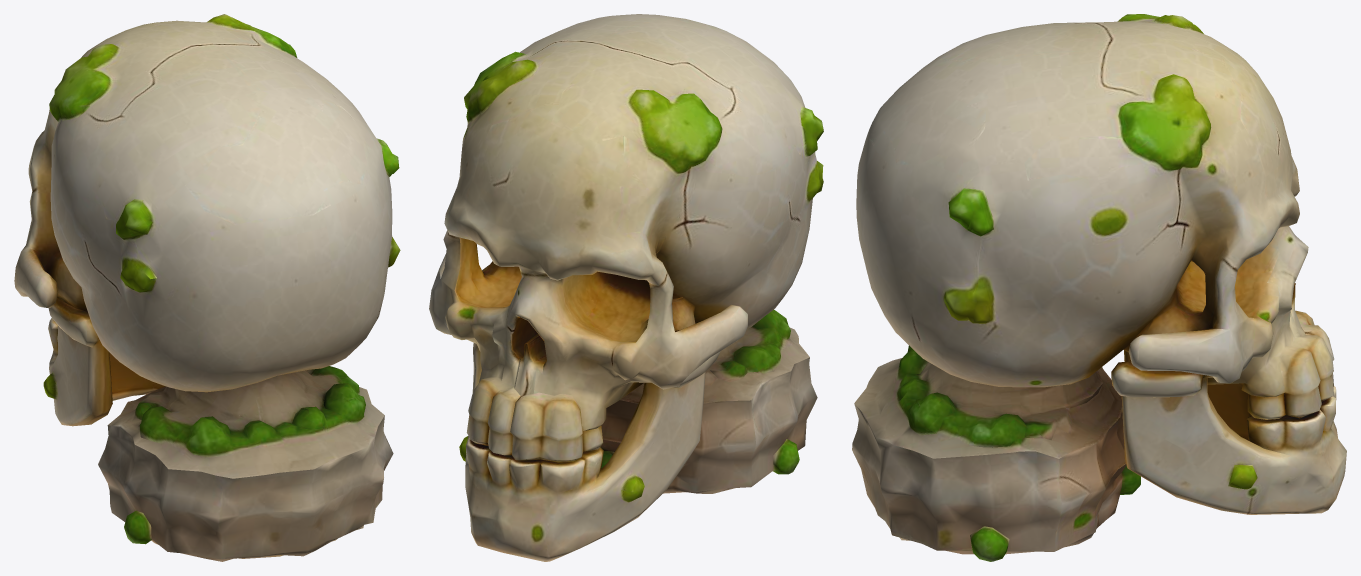
File: skull.glb
The picture shows the model from 3 angles, left to right: view 1: azimuth 30°, elevation 25°; view 2: azimuth 150°, elevation 25°; view 3: azimuth 270°, elevation 25°; orthographic projection. The views are drawn at different scales.
Visible parts, largest first — view 1: hg-skull; view 2: hg-skull; view 3: hg-skull.
Part boxes in pixels (x1,y1,x2,y2): hg-skull: [14, 14, 400, 561]; hg-skull: [429, 14, 823, 561]; hg-skull: [852, 14, 1346, 561].
Bounding box in the file's own units: 2.67 × 3.8 × 3.67.
1 material, 1 textured.
